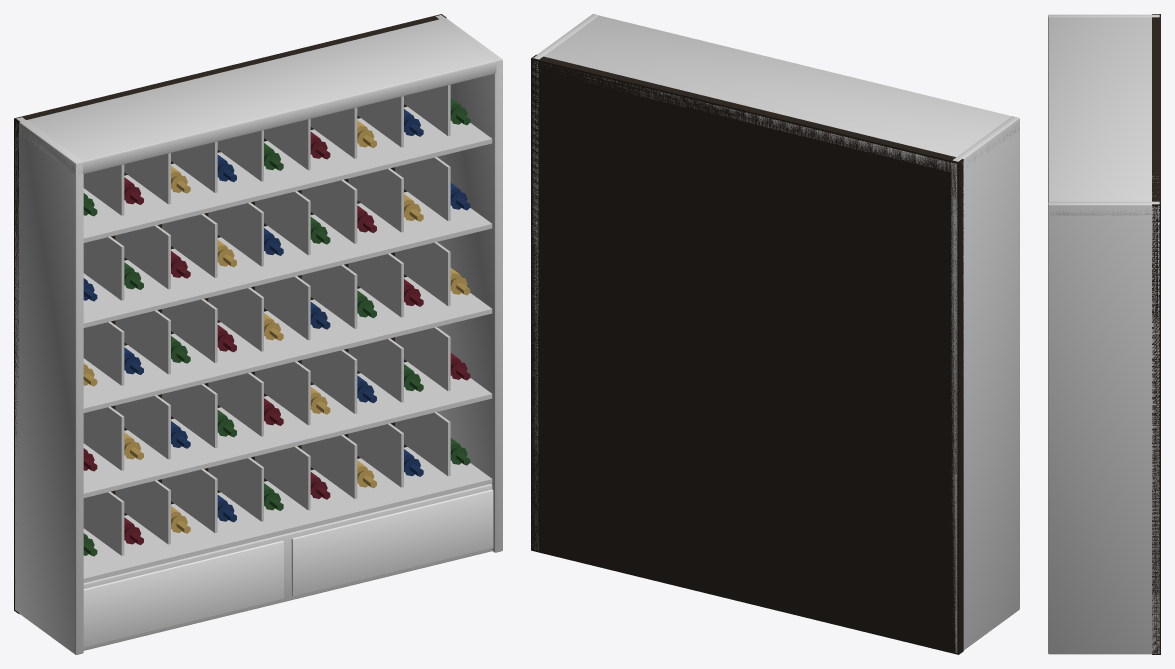
Rendered from wine_rack.glb.
3 views of the same model, side by side, from view 1: azimuth 30°, elevation 25°; view 2: azimuth 150°, elevation 25°; view 3: azimuth 270°, elevation 25° (orthographic). The views are drawn at different scales.
Parts seen in each view (by area): view 1: base, door, back, bn, bn.001, bn.003, bn.002; view 2: back, base; view 3: base, back.
Boxes of the visible parts, <box> form: base: <box>15,15,502,654</box>; door: <box>83,489,493,647</box>; back: <box>14,14,446,614</box>; bn: <box>83,98,470,556</box>; bn.001: <box>83,132,470,545</box>; bn.003: <box>83,109,470,522</box>; bn.002: <box>83,120,470,533</box>; back: <box>531,54,963,654</box>; base: <box>532,14,1019,652</box>; base: <box>1048,14,1159,654</box>; back: <box>1152,14,1160,654</box>.
Bounding box in the file's own units: 2 × 2.2 × 0.5.
